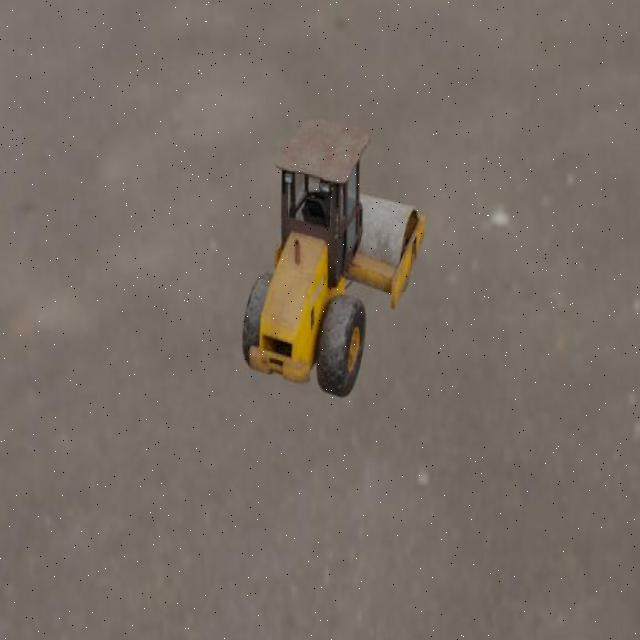Roller: (242, 118, 426, 398)
